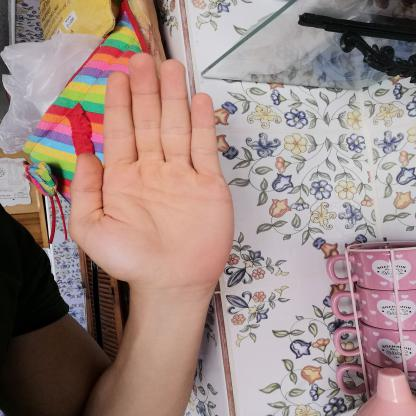SEEN: (56, 46, 244, 298)
